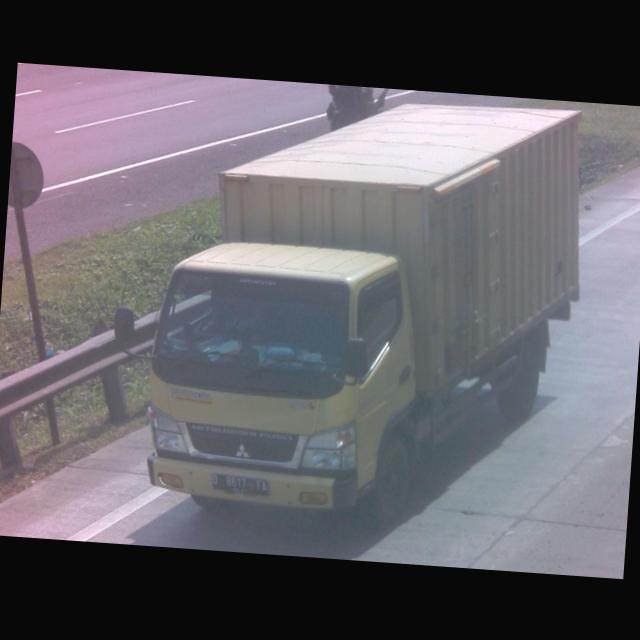plate: (208, 468, 271, 496)
